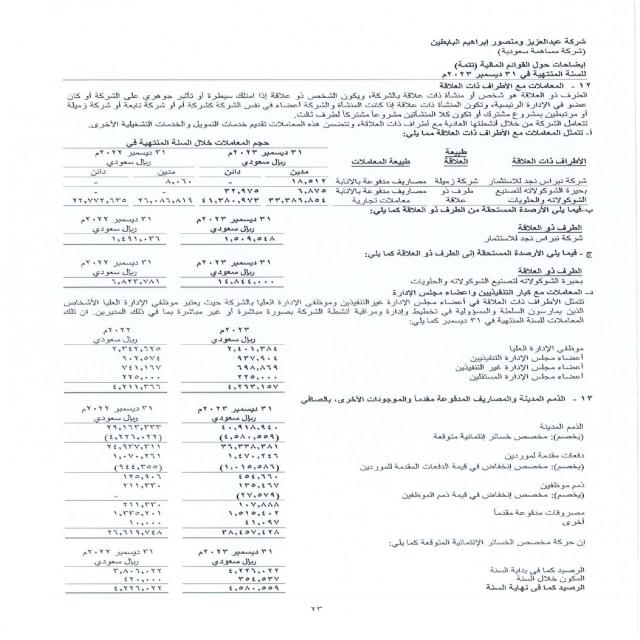notes: (450, 60, 588, 70)
table: (53, 407, 284, 596), (48, 139, 597, 209), (52, 318, 302, 400), (52, 213, 286, 292)
